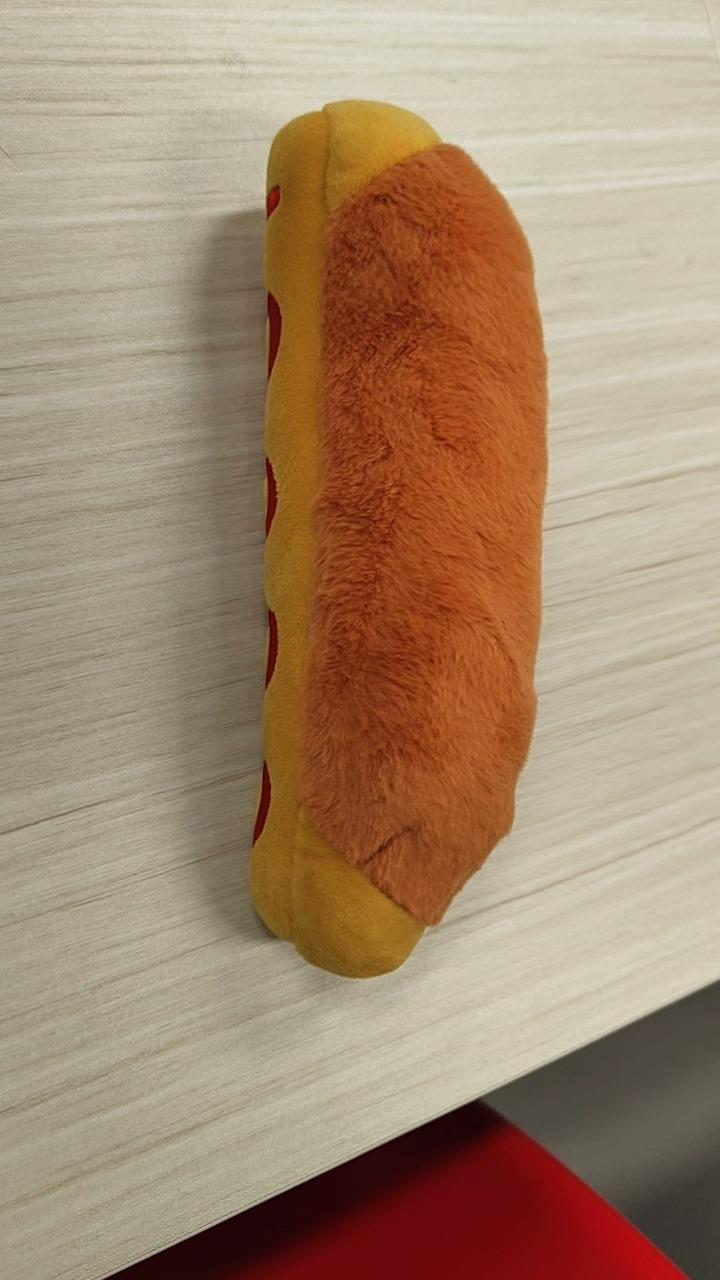hotdog: (248, 97, 550, 979)
